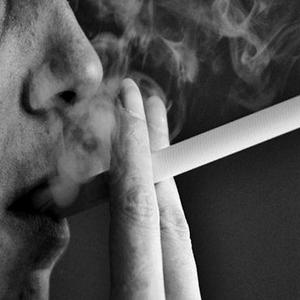cigarette: (30, 96, 300, 211)
